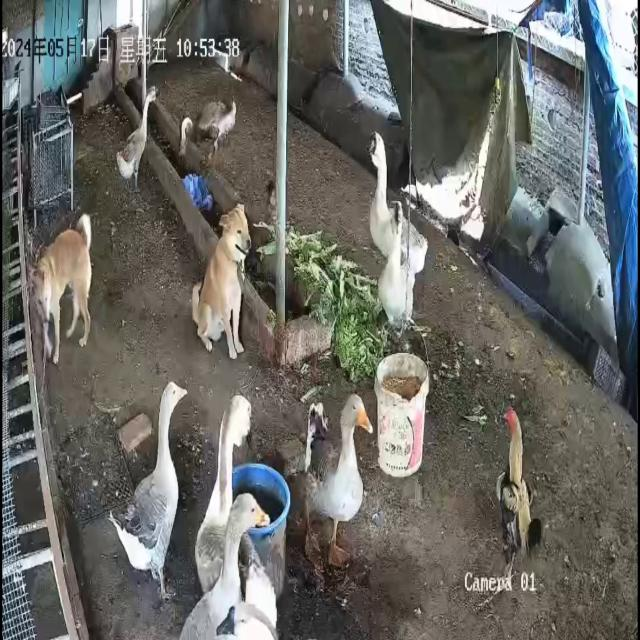dog: (192, 203, 253, 361), (36, 213, 93, 367)
